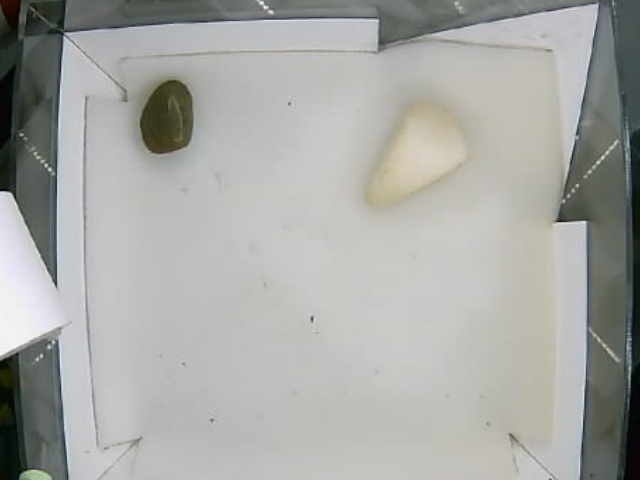Mooli: (364, 101, 470, 212)
Pebble: (139, 83, 196, 155)
